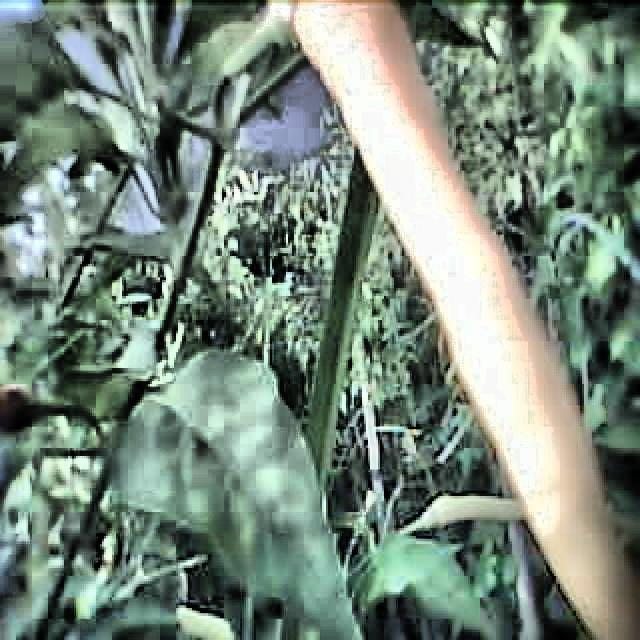Cabai: (294, 0, 640, 636)
